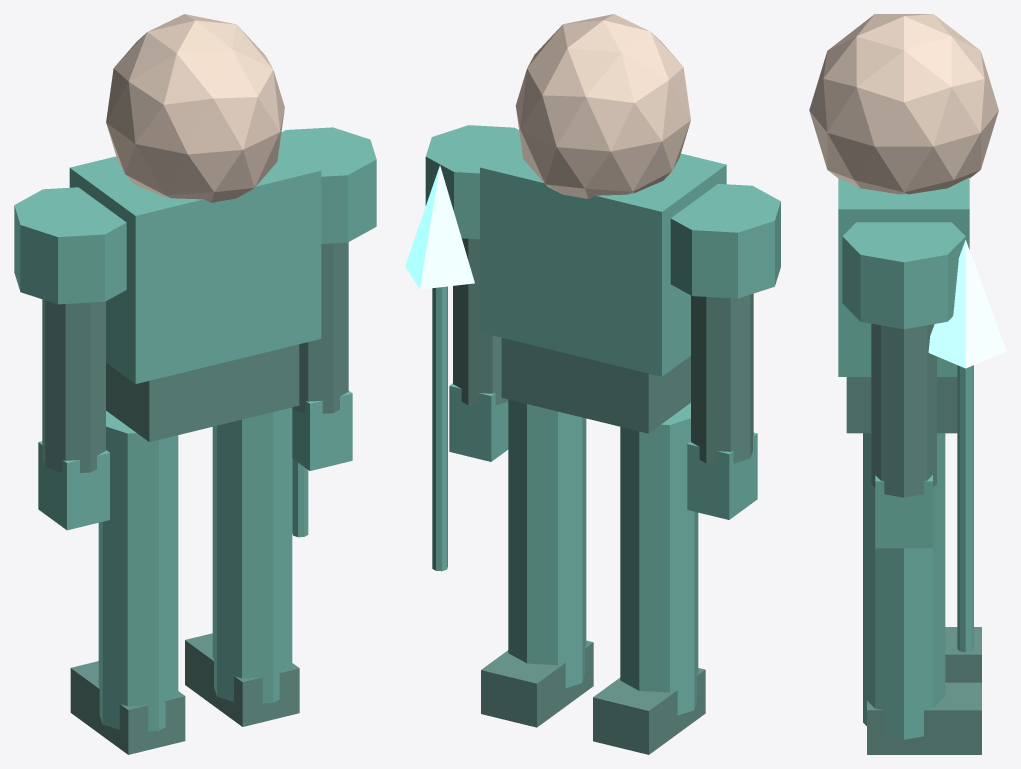
The model's file is hero_sera.glb.
The picture shows the model from 3 angles, left to right: view 1: azimuth 30°, elevation 25°; view 2: azimuth 150°, elevation 25°; view 3: azimuth 270°, elevation 25°; orthographic projection. The views are drawn at different scales.
Parts seen in each view (by area): view 1: Cube, Icosphere, Cylinder.004, Cylinder.005, Cube.001, Cylinder, Cylinder.002, Cylinder.001, Cylinder.003, Cube.004, Cube.005, Cube.002 (+2 smaller); view 2: Cube, Icosphere, Cylinder.004, Cylinder.005, Cube.001, Cylinder, Cylinder.002, Cube.005, Cube.004, Cylinder.001, Cylinder.003, Cone (+3 smaller); view 3: Icosphere, Cylinder.005, Cylinder.001, Cylinder.003, Cube, Cube.005, Cylinder.006, Cone, Cube.003, Cube.001, Cube.004.
Part boxes in pixels (x1,y1,x2,y2): Cube: [69, 141, 321, 383]; Icosphere: [106, 14, 284, 202]; Cylinder.004: [98, 411, 178, 731]; Cylinder.005: [212, 407, 292, 703]; Cube.001: [106, 344, 299, 441]; Cylinder: [14, 187, 126, 304]; Cylinder.002: [42, 299, 105, 472]; Cylinder.001: [280, 127, 376, 243]; Cylinder.003: [292, 242, 348, 413]; Cube.004: [70, 661, 185, 754]; Cube.005: [185, 633, 299, 726]; Cube.002: [38, 441, 109, 530]; Cube: [480, 138, 726, 376]; Icosphere: [515, 14, 690, 198]; Cylinder.004: [620, 403, 698, 715]; Cylinder.005: [508, 399, 586, 687]; Cube.001: [501, 338, 690, 433]; Cylinder: [670, 184, 780, 298]; Cylinder.002: [691, 293, 753, 463]; Cube.005: [481, 640, 593, 727]; Cube.004: [593, 668, 705, 754]; Cylinder.001: [425, 125, 519, 239]; Cylinder.003: [453, 238, 508, 405]; Cone: [405, 165, 474, 289]; Icosphere: [809, 14, 998, 194]; Cylinder.005: [863, 433, 945, 739]; Cylinder.001: [842, 222, 965, 329]; Cylinder.003: [871, 323, 936, 497]; Cube: [838, 177, 969, 376]; Cube.005: [867, 682, 981, 754]; Cylinder.006: [957, 365, 973, 652]; Cone: [928, 240, 1006, 368]; Cube.003: [875, 475, 932, 548]; Cube.001: [846, 377, 957, 433]; Cube.004: [945, 627, 981, 682].
Size of the model in its own units: 0.98 by 1.87 by 0.481.
